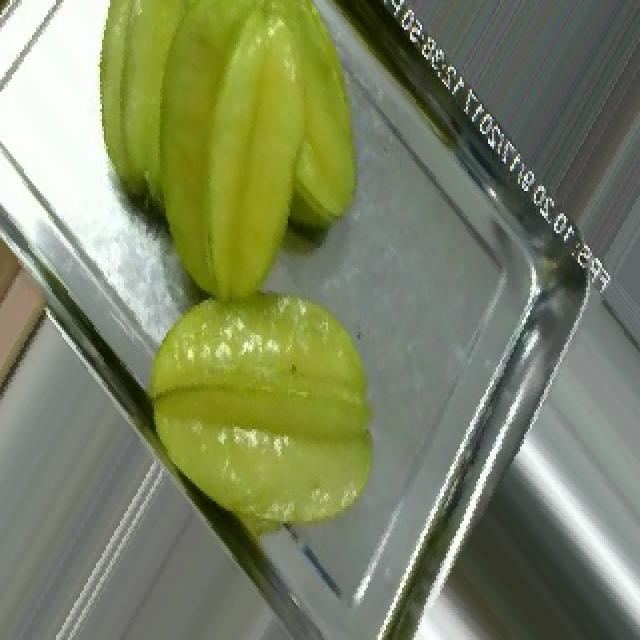fruit: (44, 0, 434, 325), (94, 236, 438, 574), (0, 169, 82, 459)
